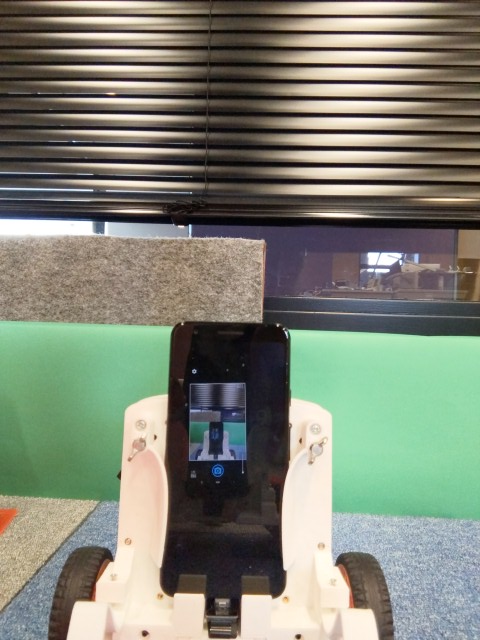f: (55, 303, 399, 640)
